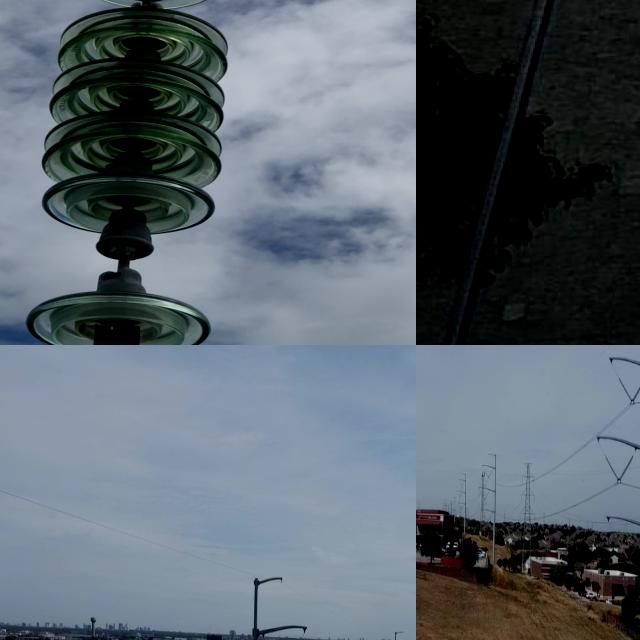杆塔: (518, 459, 537, 577), (476, 470, 489, 532)
正常电缆: (427, 0, 575, 345)
正常绝缘子: (24, 0, 244, 345), (593, 445, 625, 489), (610, 445, 638, 492), (620, 526, 640, 575), (612, 528, 633, 569), (615, 372, 636, 408), (623, 371, 640, 415)
绝缘子破损: (90, 228, 156, 284)
